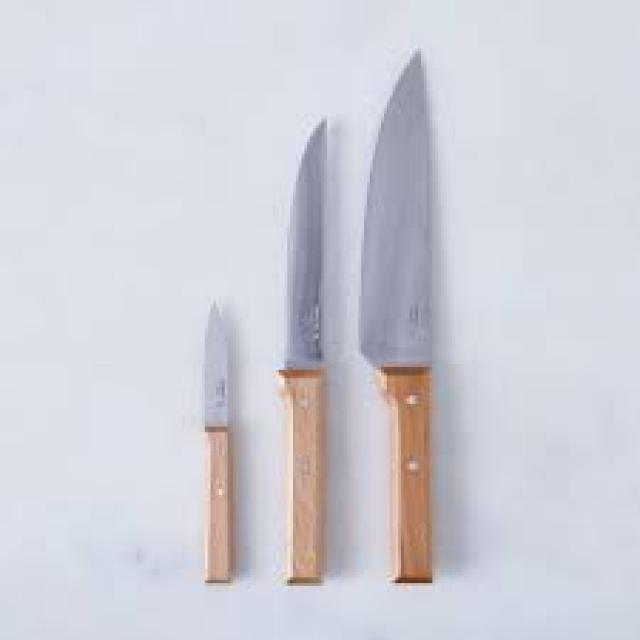knives: (254, 70, 353, 590), (353, 42, 441, 588)
